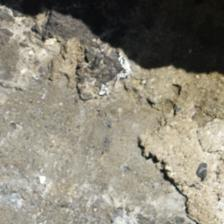Crack: (67, 66, 132, 158)
